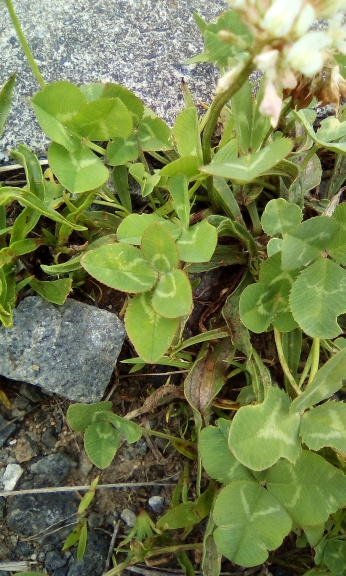4leaf: (78, 223, 195, 364)
